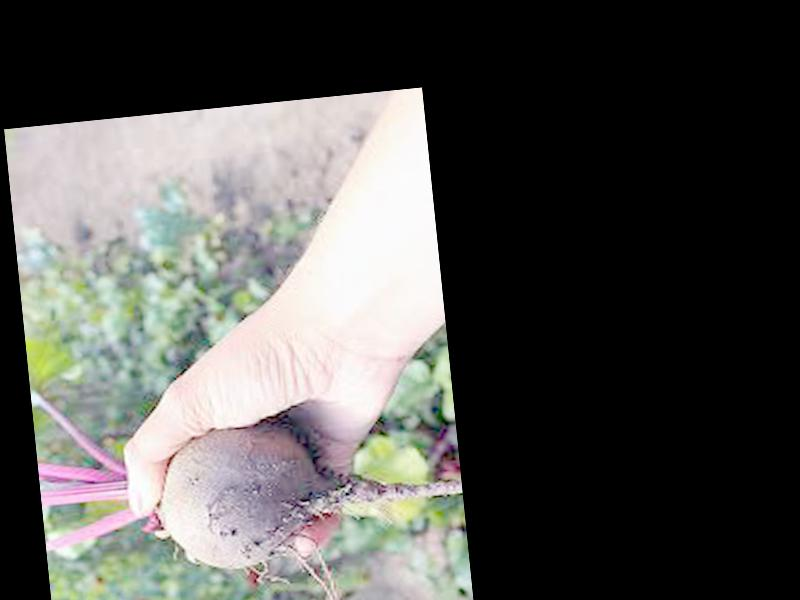Beet: (32, 347, 473, 600)
